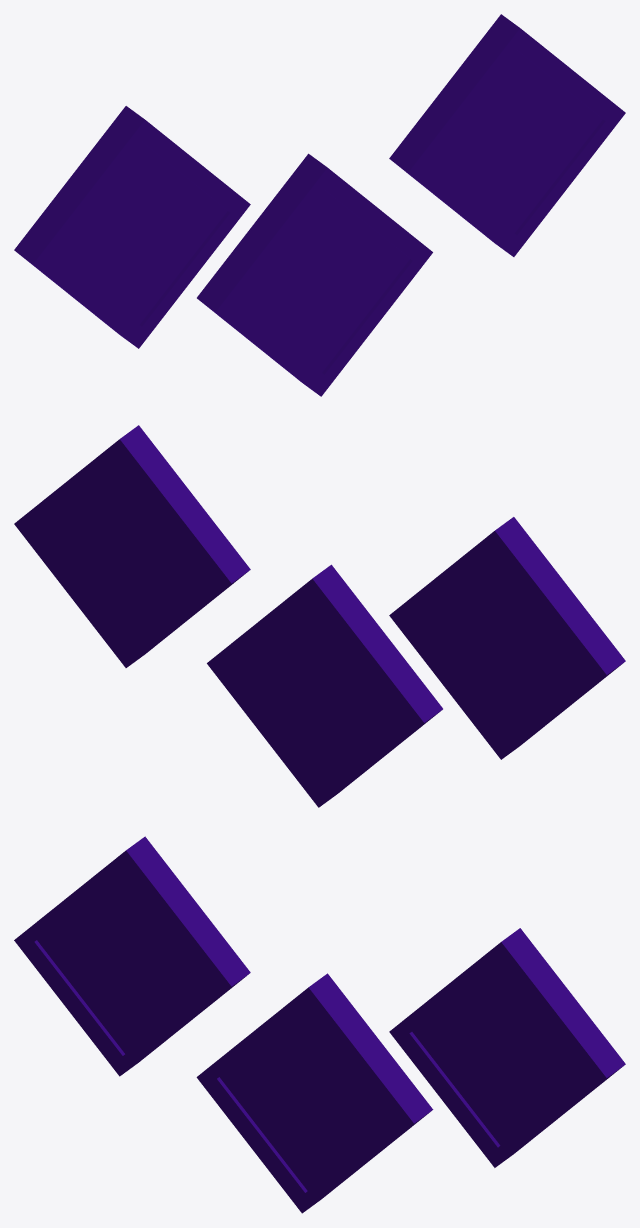
The model's file is cuadros.fbx.
3 renders of one model, top to bottom at view 1: azimuth 30°, elevation 25°; view 2: azimuth 150°, elevation 25°; view 3: azimuth 330°, elevation 25°, orthographic.
Parts seen in each view (by area): view 1: polySurface1629; view 2: polySurface1629; view 3: polySurface1629.
Part boxes in pixels (x1=…): polySurface1629: x1=14, y1=14, x2=625, y2=396; polySurface1629: x1=14, y1=425, x2=625, y2=807; polySurface1629: x1=14, y1=836, x2=625, y2=1213.
Bounding box in the file's own units: 4.97 × 2.56 × 0.2783.
